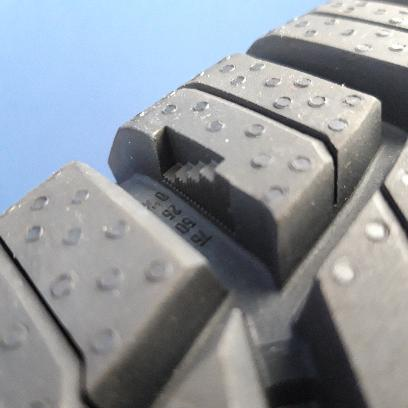temoin:100: (150, 124, 238, 240)
